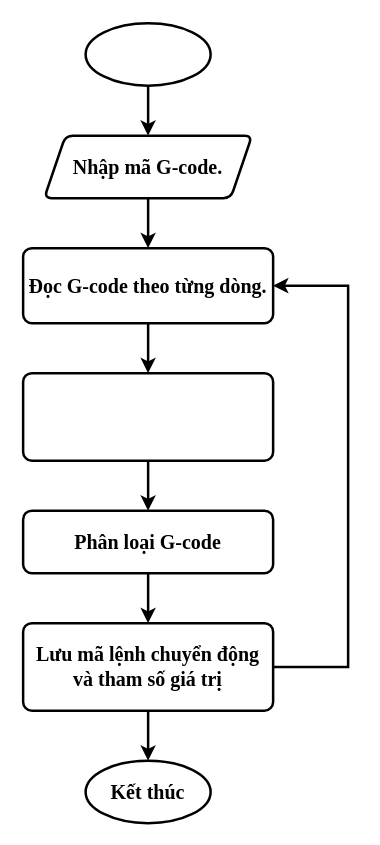
Some shapes in this 380 by 845 pixel diagram are drawn without their labels. The centre of each missing label's shape, as x and y in pixels:
"Bắt đầu" belongs at point (147, 53).
"Loại bỏ các ký tự không cần thiết và chuyển đổi thành chữ hoa." belongs at point (147, 416).
